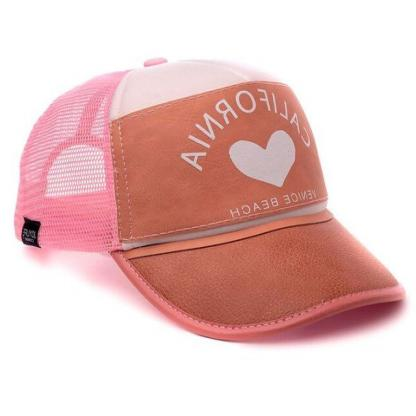cap: (3, 54, 406, 345)
